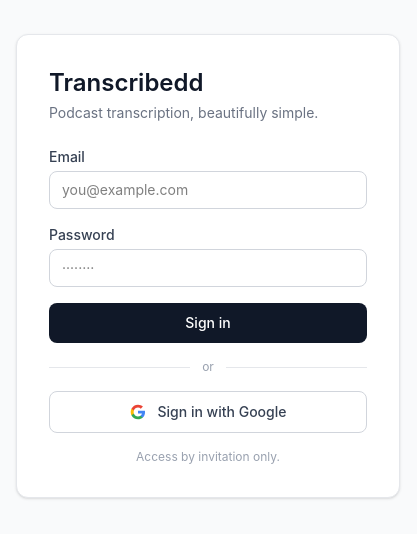
Test: AuthPage › should display error message on failed login
Type "test@example.com" into the field labelled "Email" at (208, 190), box x1=49 y1=171 x2=367 y2=209
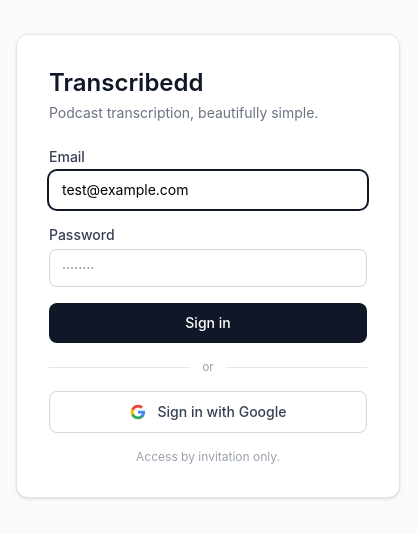
Type "wrongpassword" into the password field labelled "Password" at (208, 268), box x1=49 y1=249 x2=367 y2=287
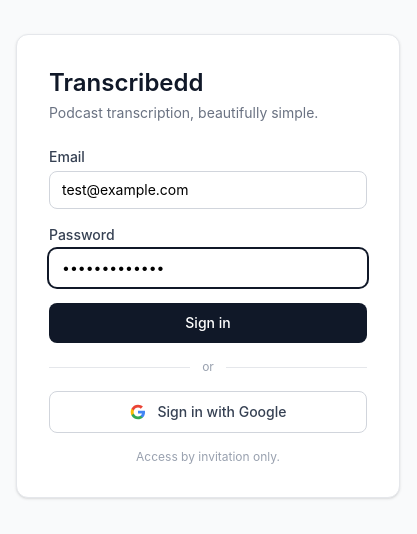
Click the button "Sign in" at (208, 323), box x1=49 y1=303 x2=367 y2=343
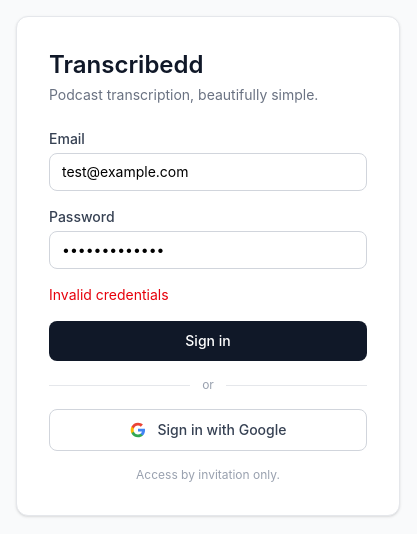
Now the text "Invalid credentials" is shown, box x1=49 y1=286 x2=169 y2=303
